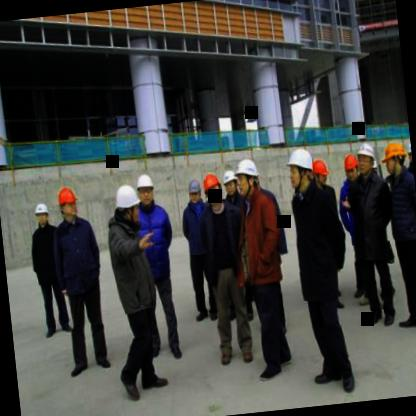helmet: (283, 144, 318, 192), (112, 182, 144, 230), (233, 154, 265, 202), (379, 137, 410, 181), (54, 181, 81, 224), (132, 170, 158, 209), (354, 139, 378, 179), (200, 170, 224, 208), (310, 155, 331, 188), (184, 178, 205, 210), (32, 199, 52, 230), (221, 166, 240, 198), (340, 150, 359, 182), (405, 140, 413, 170)
